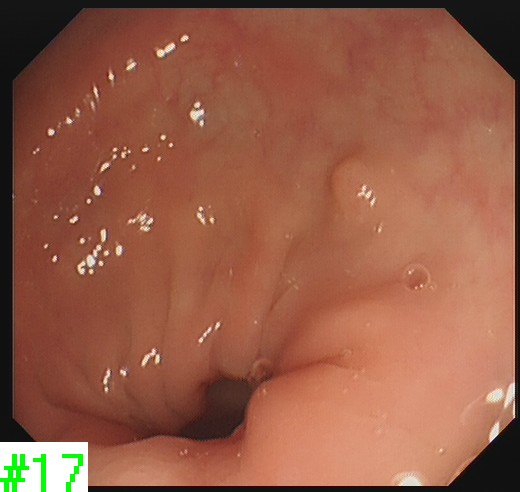adenoma: (327, 153, 370, 209)
